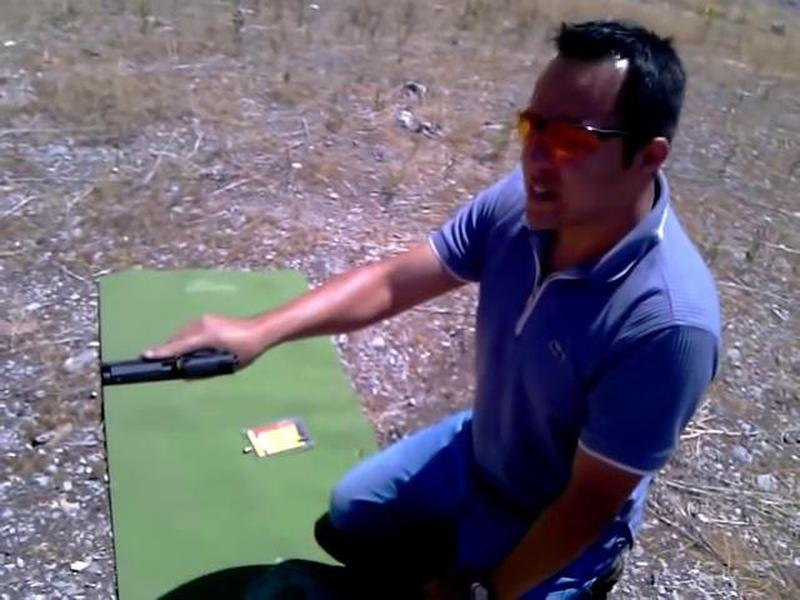Pistola: (89, 334, 254, 405)
